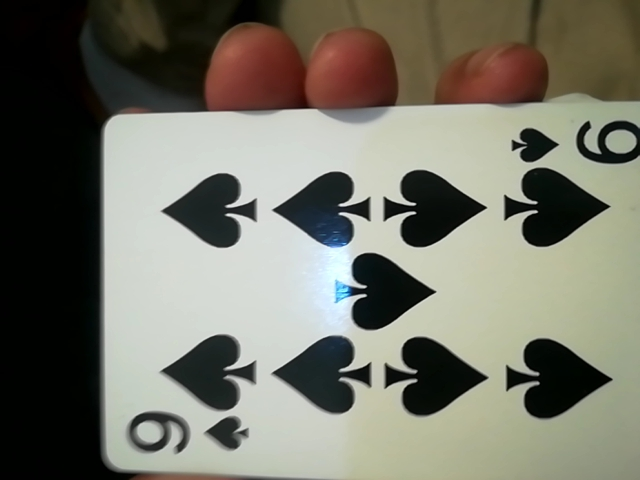ht 9: (84, 108, 633, 479)
